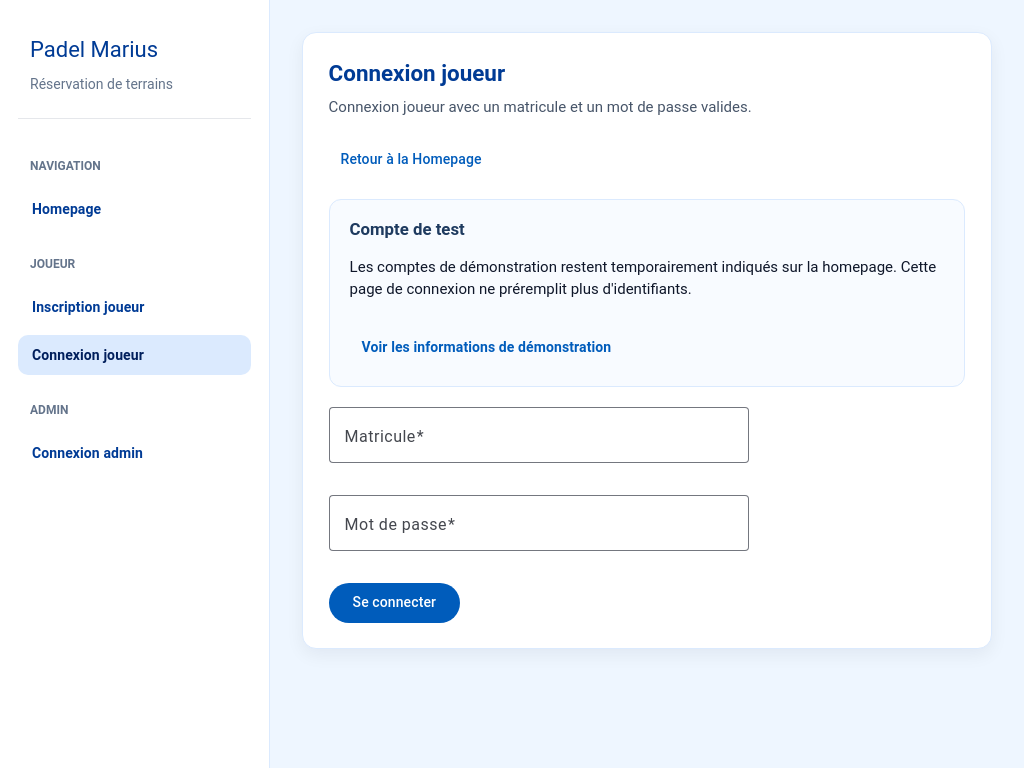
Test: Happy flows MVP Padel Marius › paie une invitation privée et actualise immédiatement la notification
The width and height of the screenshot is (1024, 768).
Expected: the heading "Connexion joueur" is shown, [329,60,505,86]
Type "G1001" into the field named "matricule" at (539, 435), box [345,423,733,447]
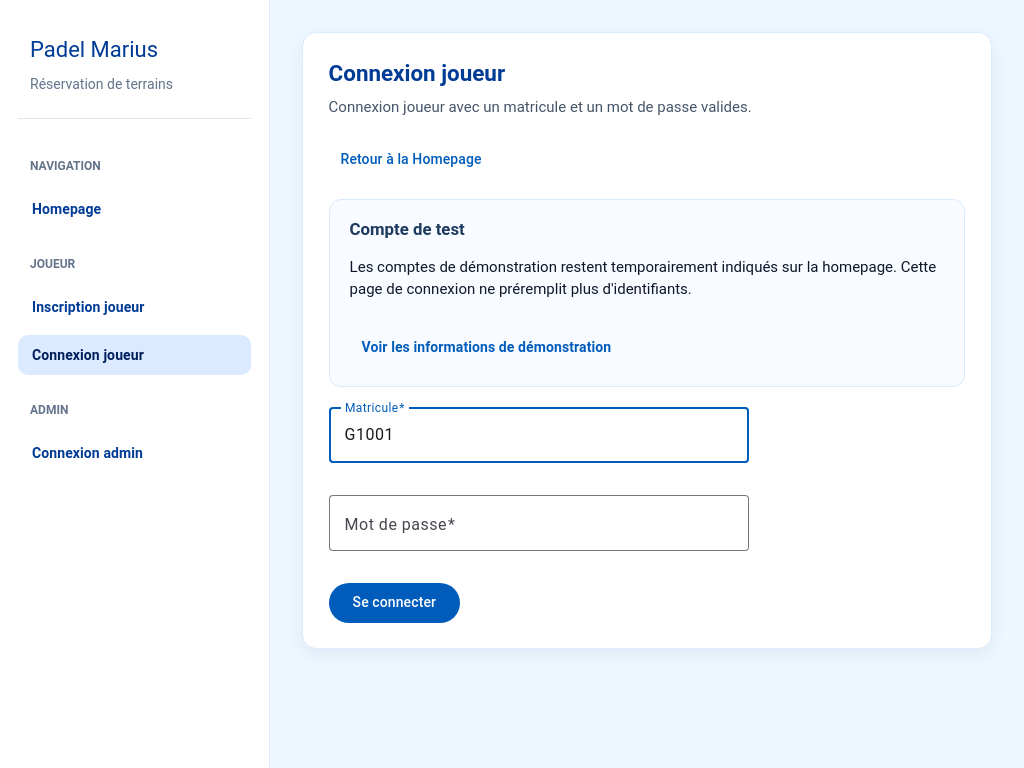
Type "password" into the password field named "motDePasse" at (539, 523), box [345,511,733,535]
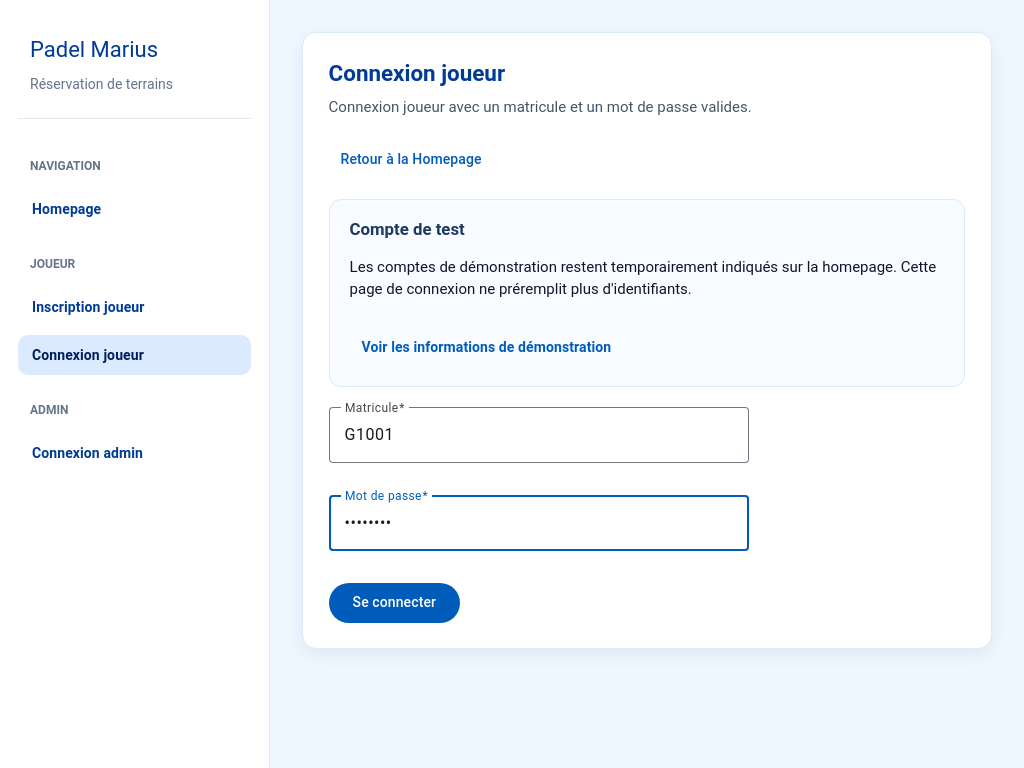
Click the button "Se connecter" at (395, 603), box [329,583,460,623]
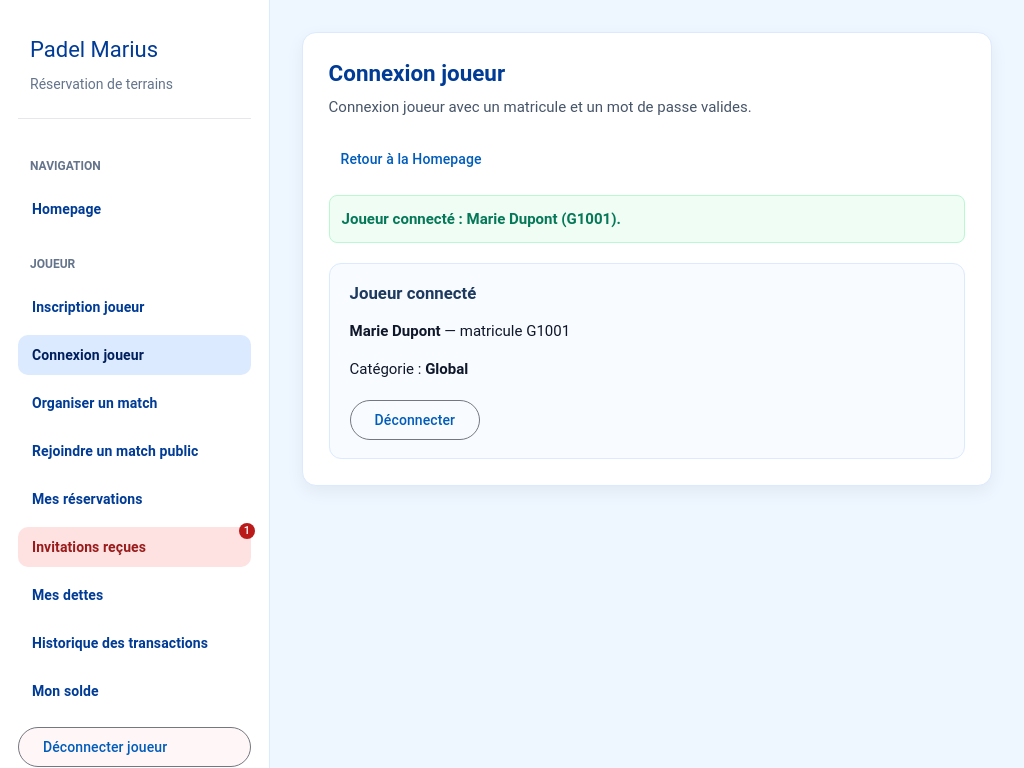
Result: the text "Joueur connecté : Marie Dupont (G1001)." is shown at [329,195,965,244]
Result: the link "Mon solde" is shown at [18,671,251,711]
Click the link "Invitations reçues 1" at (135, 547), box [18,527,251,567]
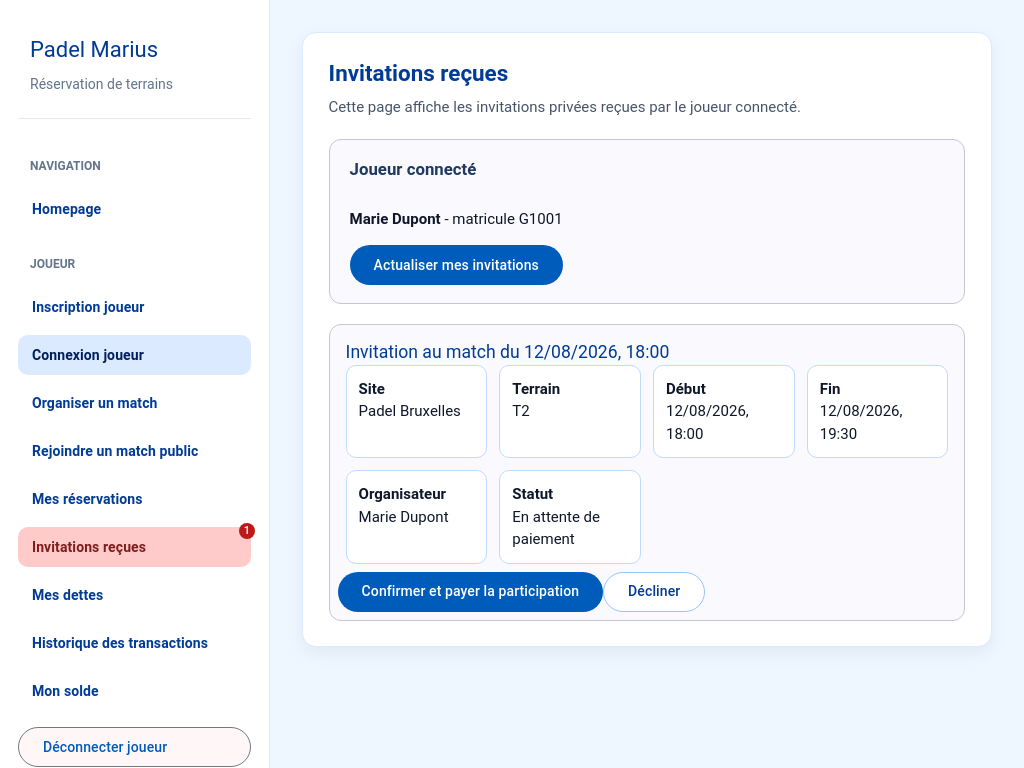
Result: the heading "Invitations reçues" is shown at [329,60,508,86]
Result: the text "Padel Bruxelles" is shown at [359,402,461,420]
Click the button "Confirmer et payer la participation" at (471, 592), box [338,572,604,612]
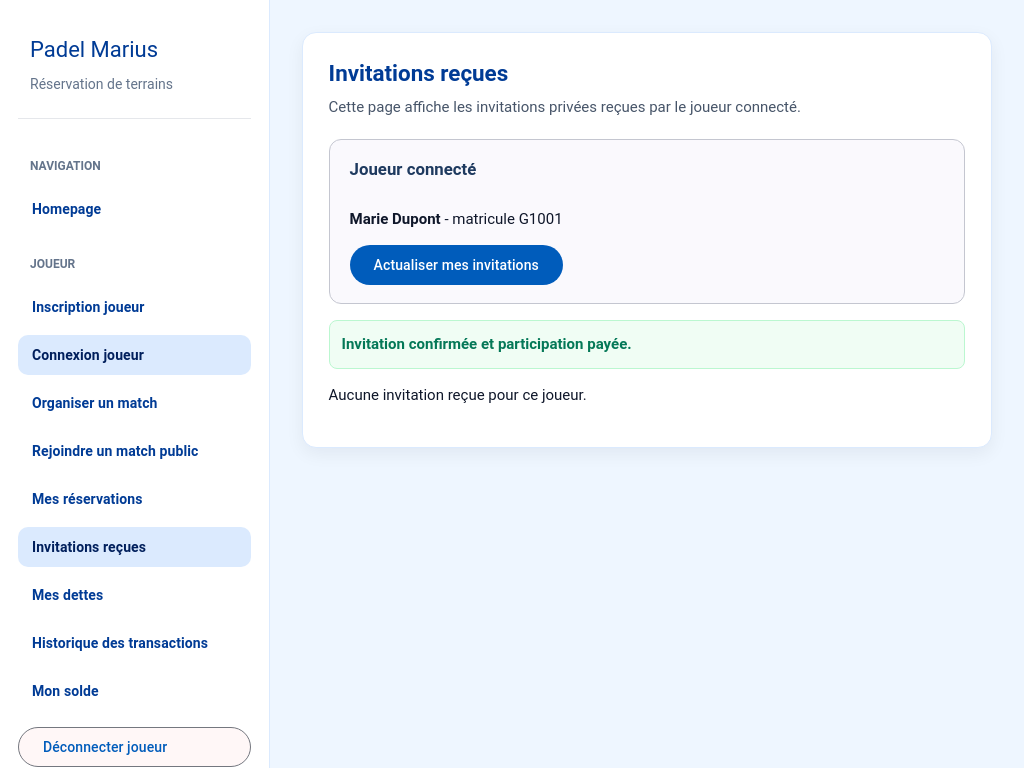
Result: the text "Invitation confirmée et participation payée." is shown at [329,320,965,369]
Result: the text "Aucune invitation reçue pour ce joueur." is shown at [329,386,587,404]
